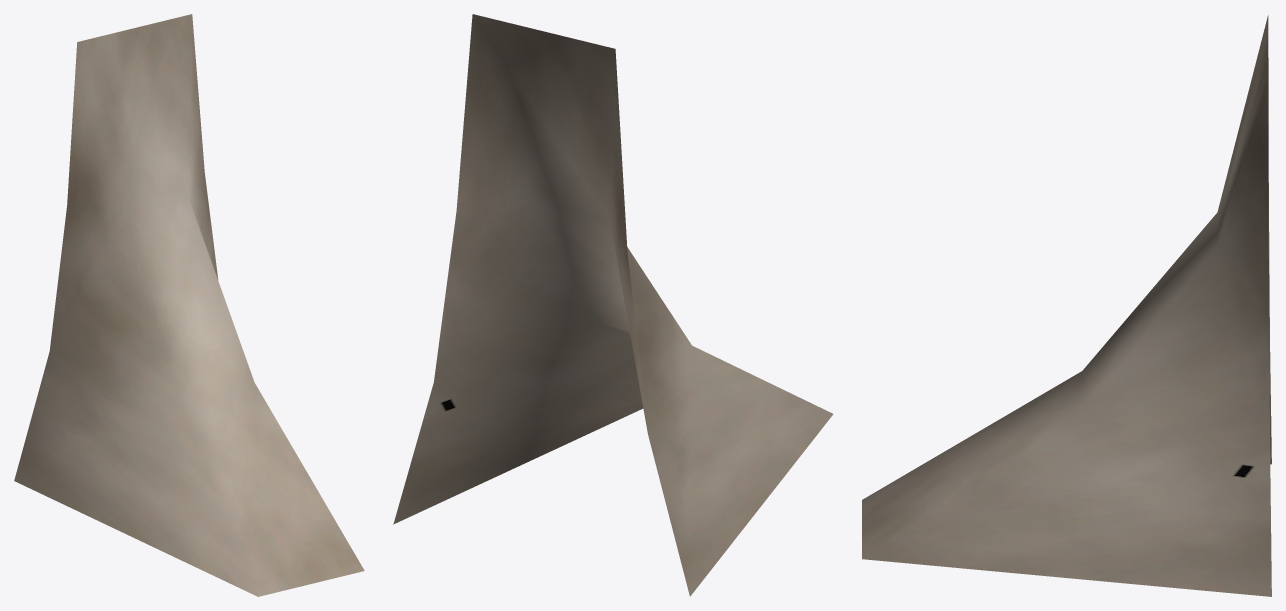
The model's file is web_07.fbx.
The picture shows the model from 3 angles, left to right: view 1: azimuth 30°, elevation 25°; view 2: azimuth 150°, elevation 25°; view 3: azimuth 270°, elevation 25°; orthographic projection. The views are drawn at different scales.
Parts seen in each view (by area): view 1: mine_tileset/mine_web04_mat; view 2: mine_tileset/mine_web04_mat; view 3: mine_tileset/mine_web04_mat.
Part boxes in pixels (x1,y1,x2,y2): mine_tileset/mine_web04_mat: (14,14,364,596); mine_tileset/mine_web04_mat: (393,14,833,596); mine_tileset/mine_web04_mat: (862,15,1271,596).
Bounding box in the file's own units: 3.06 × 5.21 × 4.
